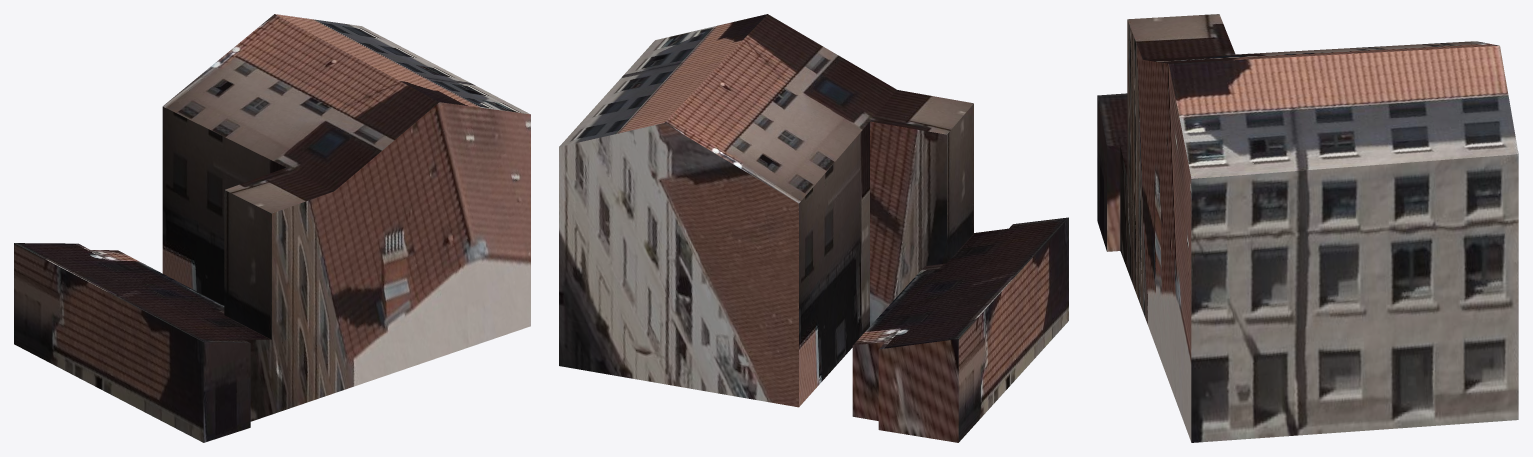
The picture shows the model from 3 angles, left to right: view 1: azimuth 30°, elevation 25°; view 2: azimuth 150°, elevation 25°; view 3: azimuth 270°, elevation 25°; orthographic projection. The views are drawn at different scales.
Parts seen in each view (by area): view 1: Z_UP; view 2: Z_UP; view 3: Z_UP.
Part boxes in pixels (x1,y1,x2,y2): Z_UP: [14, 14, 530, 442]; Z_UP: [559, 14, 1068, 442]; Z_UP: [1097, 14, 1518, 442].
Bounding box in the file's own units: 19.54 × 11.73 × 14.08.
Materials: 2 (1 with a texture image).
